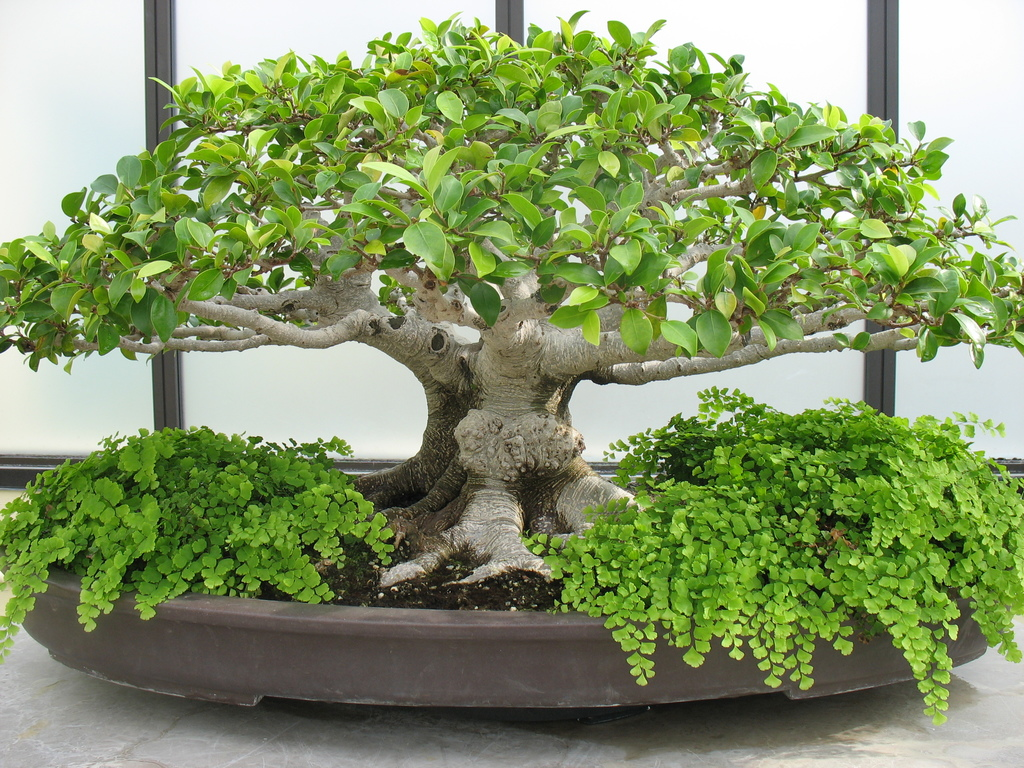Tree: (0, 9, 1023, 726)
